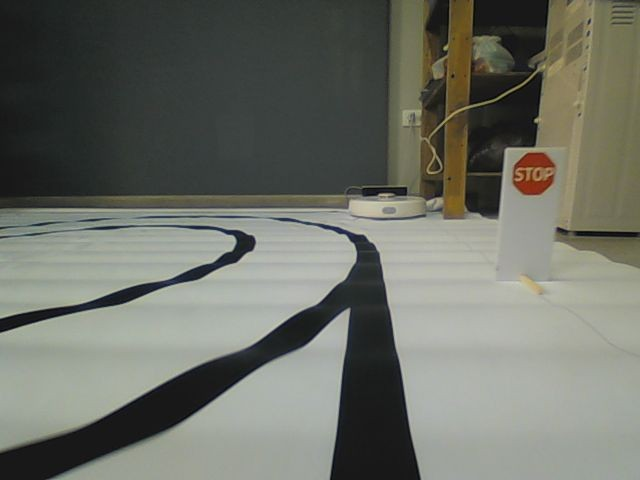Stop: (510, 152, 557, 194)
